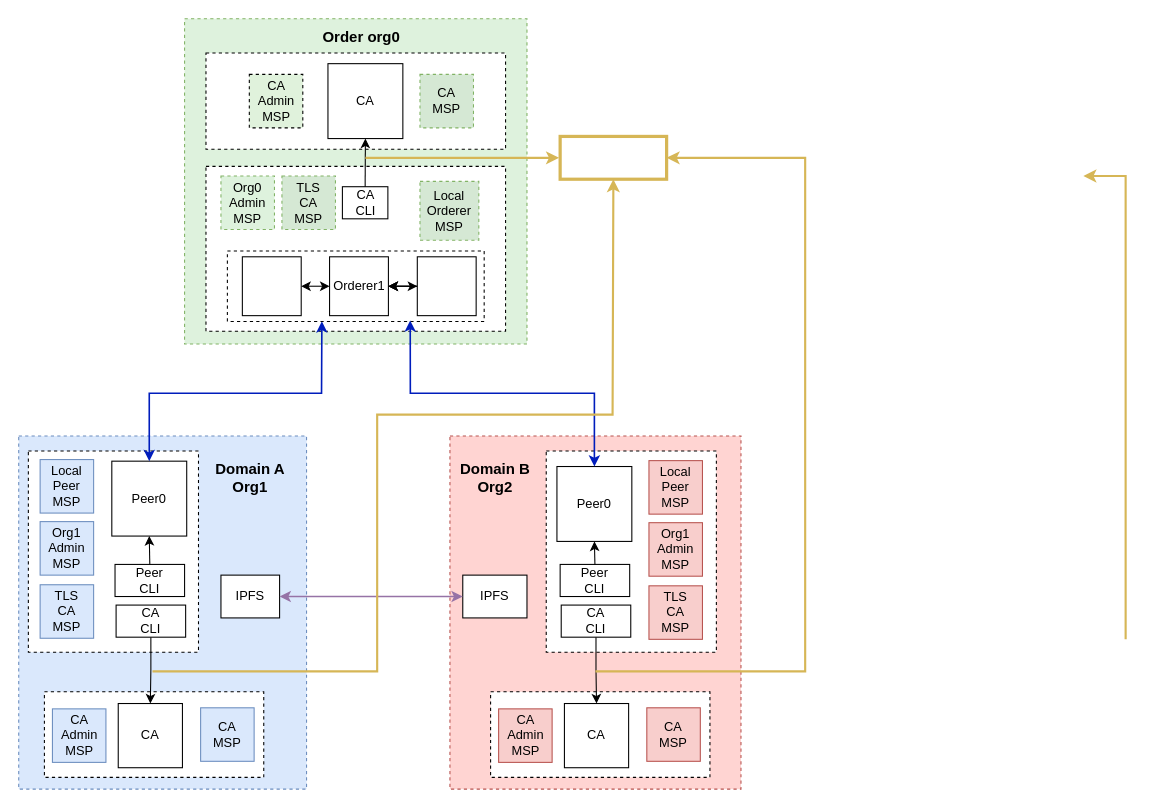
The diagram is 1153 pixels wide and 808 high, and some of its shapes have lost their labels. Here are the shapes that lost their labels. From the top down, the box of each, then its label:
(558, 134, 668, 180): TLS CA
(241, 256, 301, 316): Orderer0
(416, 256, 476, 316): Orderer2
